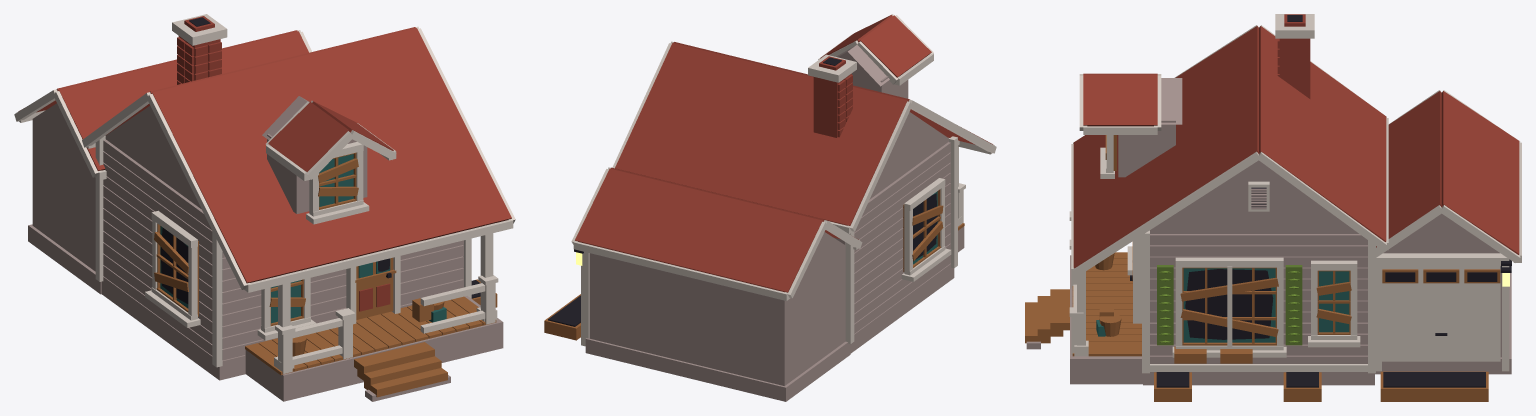
3 renders of one model, left to right at view 1: azimuth 30°, elevation 25°; view 2: azimuth 150°, elevation 25°; view 3: azimuth 270°, elevation 25°, orthographic. The views are drawn at different scales.
Parts seen in each view (by area): view 1: roof_pal_picketWhite, body_pal_picketWhite, dormer_roof_pal_picketWhite, door_entry_pal_picketWhite, root_pal_picketWhite; view 2: roof_pal_picketWhite, body_pal_picketWhite, dormer_roof_pal_picketWhite; view 3: body_pal_picketWhite, roof_pal_picketWhite, door_garage_pal_picketWhite, dormer_roof_pal_picketWhite, root_pal_picketWhite.
Part boxes in pixels (<box>): roof_pal_picketWhite: <box>14,14,515,292</box>; body_pal_picketWhite: <box>28,103,503,401</box>; dormer_roof_pal_picketWhite: <box>265,100,396,180</box>; door_entry_pal_picketWhite: <box>355,257,396,319</box>; root_pal_picketWhite: <box>412,298,446,322</box>; roof_pal_picketWhite: <box>571,41,996,300</box>; body_pal_picketWhite: <box>544,112,965,401</box>; dormer_roof_pal_picketWhite: <box>818,14,933,85</box>; body_pal_picketWhite: <box>1025,160,1511,401</box>; roof_pal_picketWhite: <box>1071,14,1521,276</box>; door_garage_pal_picketWhite: <box>1382,265,1500,361</box>; dormer_roof_pal_picketWhite: <box>1079,73,1161,134</box>; root_pal_picketWhite: <box>1096,259,1511,336</box>.
Size of the model in its own units: 7.38 by 6.8 by 11.04.
